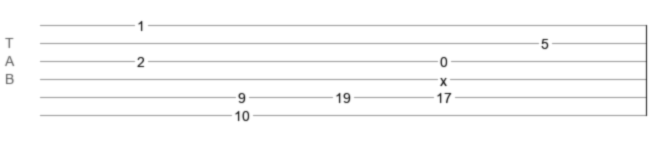0: (440, 54, 448, 64)
1: (137, 18, 145, 28)
10: (234, 108, 250, 118)
17: (436, 90, 452, 100)
19: (335, 90, 351, 100)
2: (137, 54, 145, 64)
5: (541, 36, 549, 46)
9: (238, 90, 246, 100)
x: (440, 73, 447, 81)
